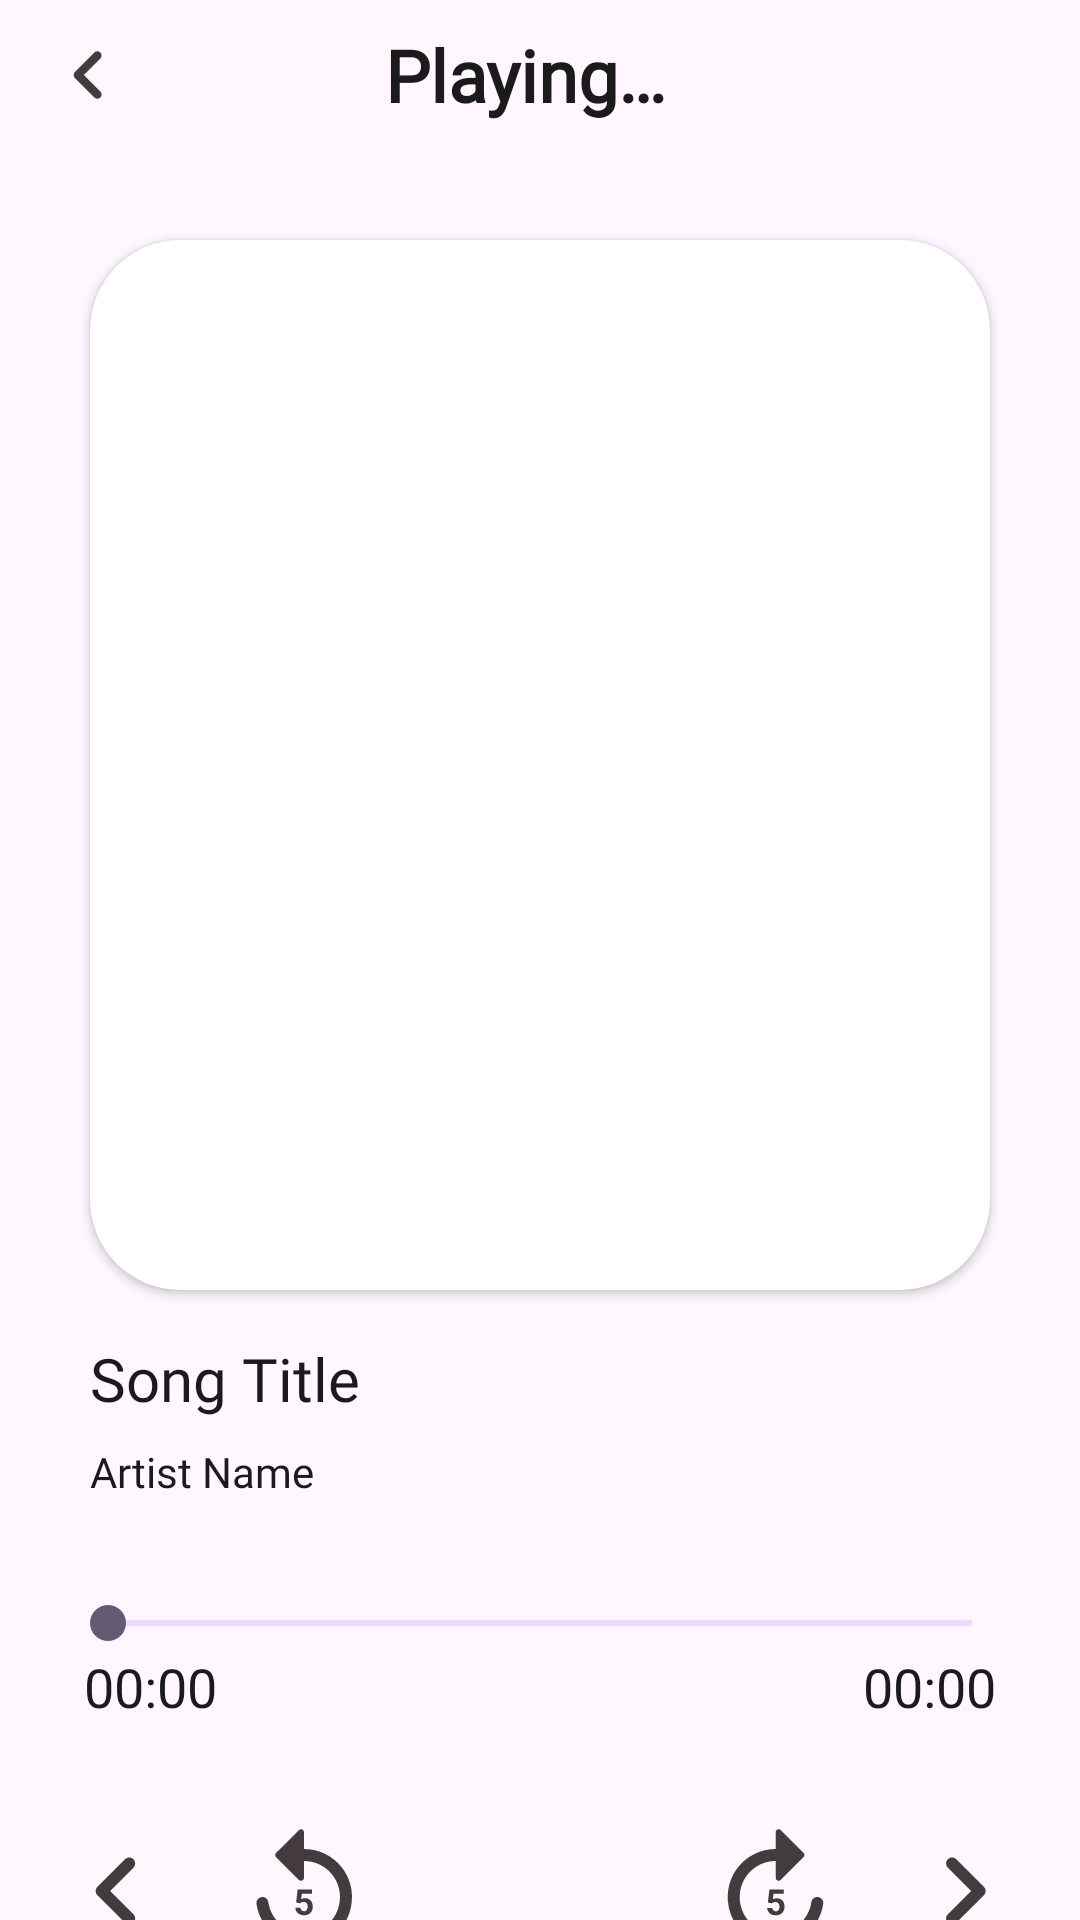

Point at icon controls on the screen. Image size 1080px x 1920px, points as point (x, y).
back button: point (87, 75)
